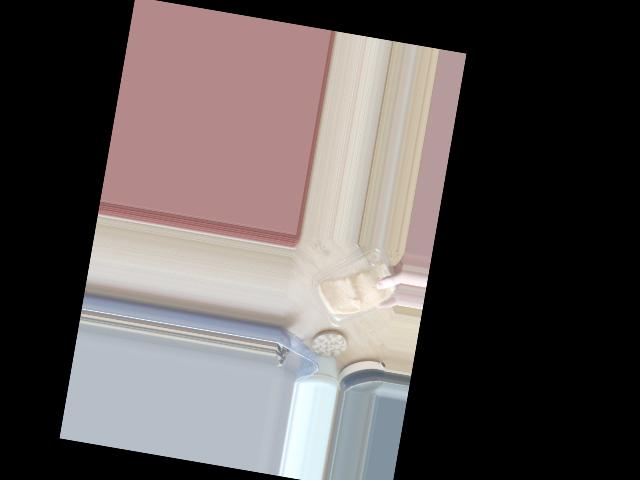cheese: (294, 238, 398, 342)
